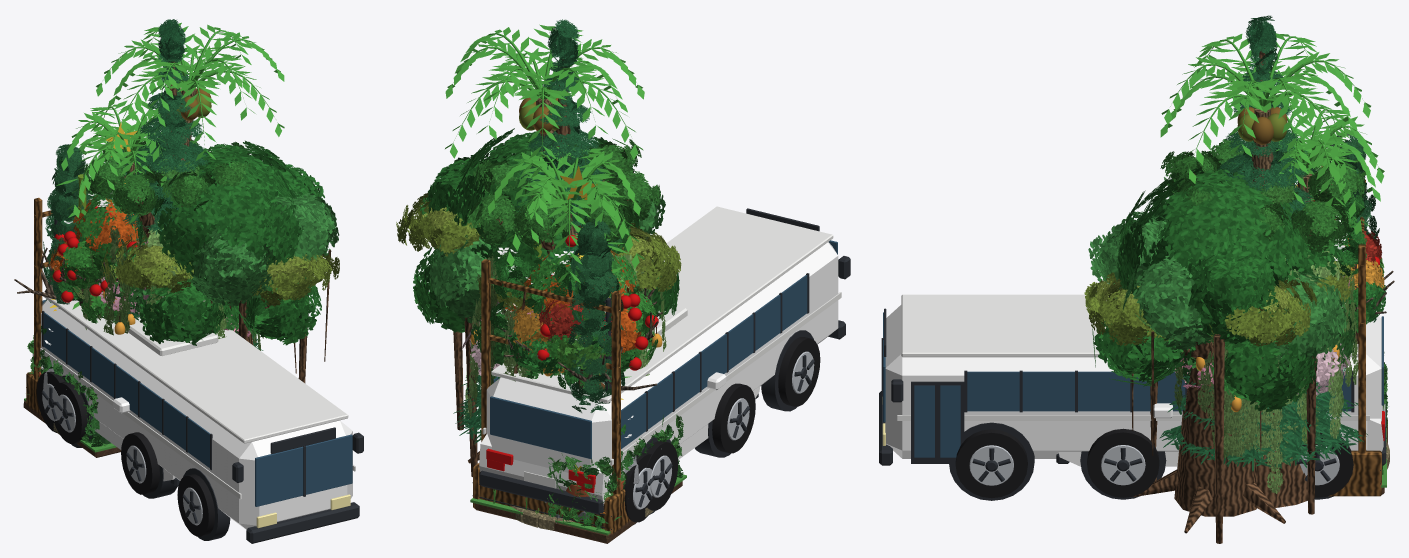
File: hobby.glb
The picture shows the model from 3 angles, left to right: view 1: azimuth 30°, elevation 25°; view 2: azimuth 150°, elevation 25°; view 3: azimuth 270°, elevation 25°; orthographic projection. The views are drawn at different scales.
Parts seen in each view (by area): view 1: bus, banyan, coconut, bigpine, acacia, baobab, palm, car, cypress, oak, willow, bougainvillea (+7 smaller); view 2: bus, banyan, coconut, bougainvillea, baobab, car, palm, cypress, acacia, bigpine, oak, maple (+9 smaller); view 3: banyan, bus, coconut, bigpine, baobab, car, acacia, willow, palm, bougainvillea, planter, cherry (+4 smaller).
Part boxes in pixels (x1=…): bus: x1=40, y1=292, x2=363, y2=543; banyan: x1=132, y1=140, x2=339, y2=383; coconut: x1=96, y1=22, x2=284, y2=161; bigpine: x1=123, y1=19, x2=263, y2=350; acacia: x1=101, y1=235, x2=339, y2=306; baobab: x1=83, y1=132, x2=253, y2=237; palm: x1=61, y1=100, x2=166, y2=223; car: x1=32, y1=354, x2=179, y2=498; cypress: x1=43, y1=144, x2=91, y2=308; oak: x1=59, y1=198, x2=137, y2=288; willow: x1=83, y1=207, x2=263, y2=350; bougainvillea: x1=34, y1=189, x2=110, y2=379; bus: x1=479, y1=206, x2=850, y2=514; banyan: x1=413, y1=128, x2=679, y2=476; coconut: x1=445, y1=24, x2=644, y2=178; bougainvillea: x1=481, y1=247, x2=633, y2=494; baobab: x1=467, y1=138, x2=660, y2=253; car: x1=479, y1=372, x2=759, y2=524; palm: x1=487, y1=145, x2=644, y2=282; cypress: x1=565, y1=219, x2=626, y2=412; acacia: x1=396, y1=193, x2=681, y2=312; bigpine: x1=453, y1=19, x2=622, y2=444; oak: x1=508, y1=244, x2=656, y2=373; maple: x1=503, y1=250, x2=641, y2=354; banyan: x1=1088, y1=168, x2=1348, y2=543; bus: x1=879, y1=294, x2=1386, y2=500; coconut: x1=1160, y1=33, x2=1370, y2=185; bigpine: x1=1159, y1=15, x2=1367, y2=471; baobab: x1=1160, y1=138, x2=1365, y2=507; car: x1=1056, y1=403, x2=1385, y2=499; acacia: x1=1084, y1=259, x2=1354, y2=346; willow: x1=1174, y1=250, x2=1358, y2=493; palm: x1=1275, y1=102, x2=1384, y2=234; bougainvillea: x1=1334, y1=179, x2=1367, y2=453; planter: x1=1328, y1=450, x2=1381, y2=496; cherry: x1=1175, y1=276, x2=1351, y2=396.
Bounding box in the file's own units: 4.09 × 6.1 × 6.
Materials: 86 (49 with a texture image).
